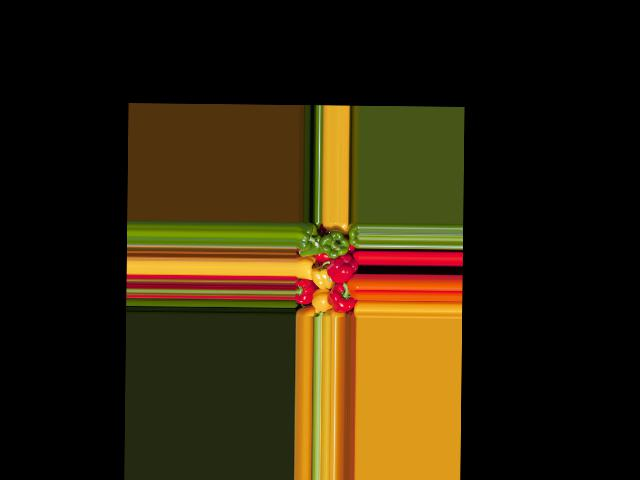bell_pepper: (344, 222, 359, 248)
